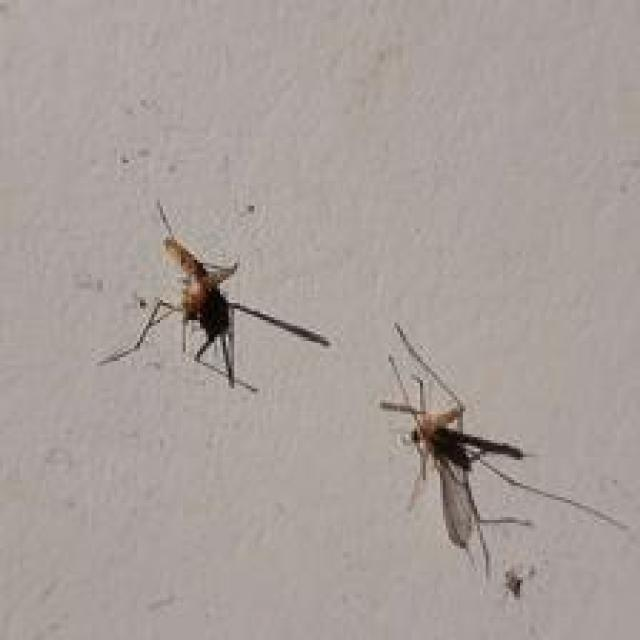Culex: (97, 198, 332, 393)
